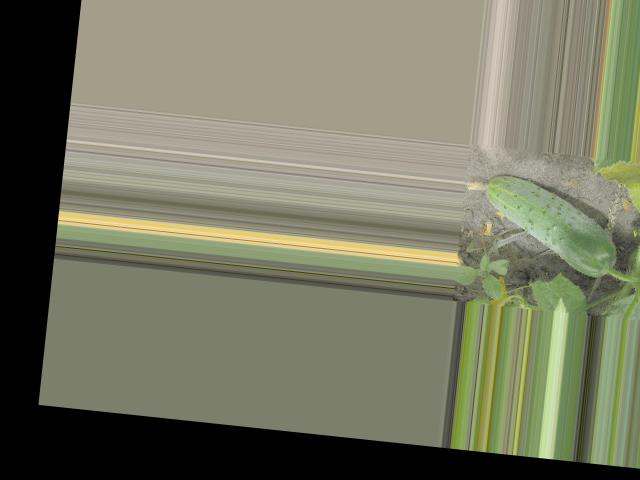cucumber: (457, 170, 623, 278)
